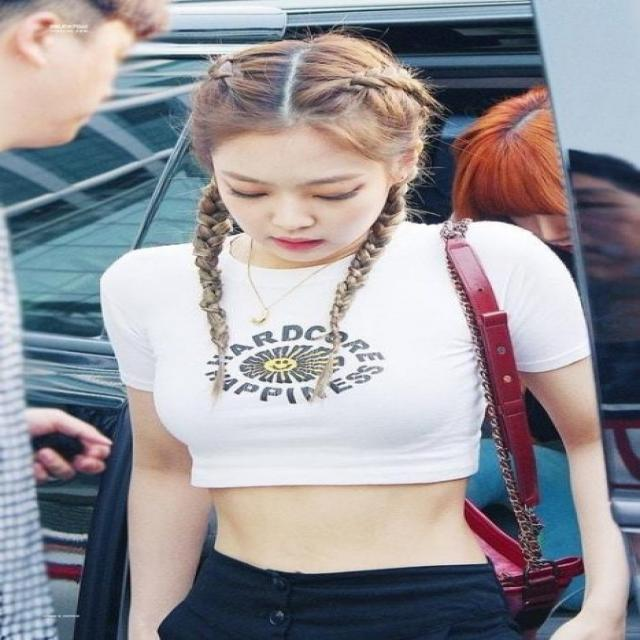clothes: (97, 221, 596, 640)
